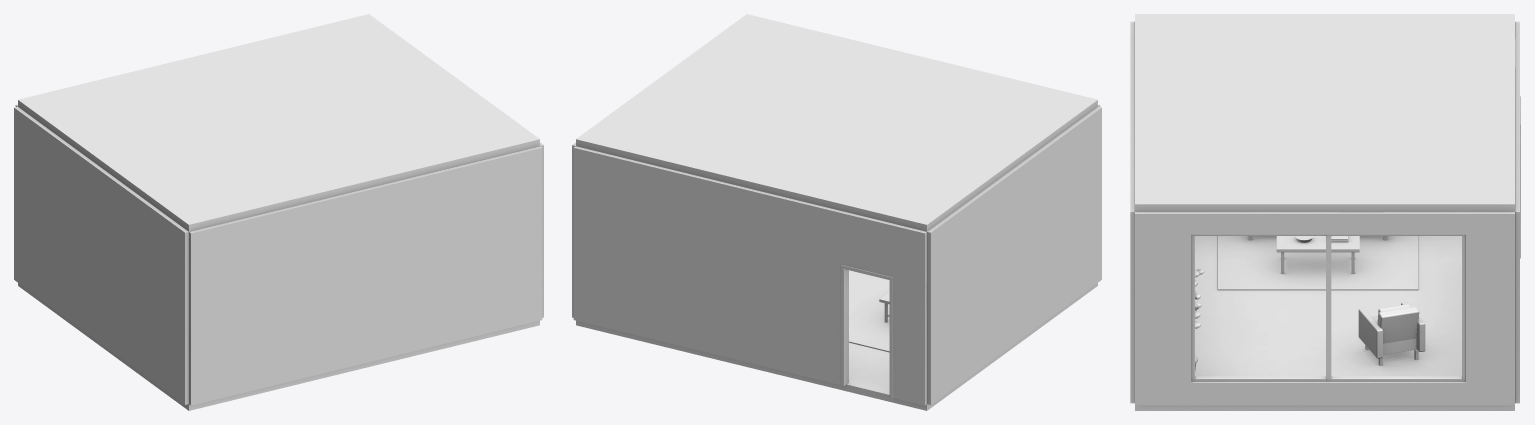
File: rahman-living-room.glb
The picture shows the model from 3 angles, left to right: view 1: azimuth 30°, elevation 25°; view 2: azimuth 150°, elevation 25°; view 3: azimuth 270°, elevation 25°; orthographic projection. The views are drawn at different scales.
Visible parts, largest first — view 1: Plaster_wall, OakFloor_wood; view 2: Plaster_wall, OakFloor_wood, Charcoal_stone.001, Wool_rug; view 3: Plaster_wall, OakFloor_wood, Wool_rug, Charcoal_stone.001, Linen_uph, Walnut_wood, LinenDark_uph.
Boxes of the visible parts, x1=… form: Plaster_wall: x1=14, y1=14, x2=543, y2=405; OakFloor_wood: x1=18, y1=283, x2=539, y2=410; Plaster_wall: x1=572, y1=14, x2=1101, y2=405; OakFloor_wood: x1=576, y1=270, x2=1097, y2=410; Charcoal_stone.001: x1=841, y1=264, x2=893, y2=397; Wool_rug: x1=849, y1=291, x2=889, y2=352; Plaster_wall: x1=1130, y1=14, x2=1519, y2=405; OakFloor_wood: x1=1135, y1=236, x2=1514, y2=410; Wool_rug: x1=1218, y1=236, x2=1418, y2=290; Charcoal_stone.001: x1=1191, y1=96, x2=1520, y2=381; Linen_uph: x1=1358, y1=302, x2=1425, y2=358; Walnut_wood: x1=1248, y1=236, x2=1418, y2=365; LinenDark_uph: x1=1377, y1=304, x2=1416, y2=354.
Bounding box in the file's own units: 6.54 × 3.24 × 5.55.
12 materials, 12 textured.
